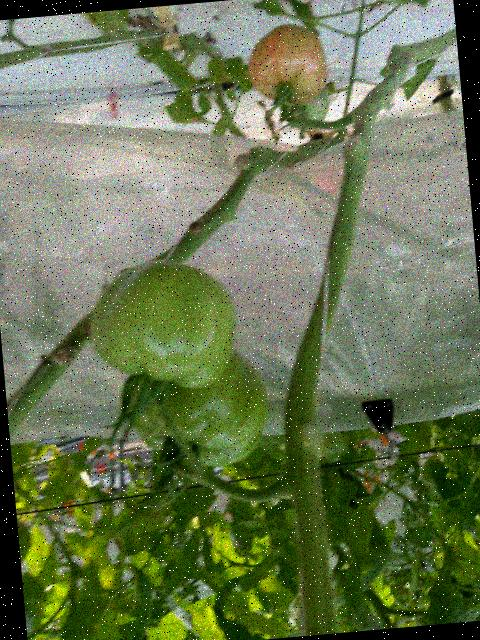b_green: (84, 253, 241, 397), (120, 345, 273, 475), (279, 86, 332, 131)
b_half_ripened: (245, 20, 330, 110)
